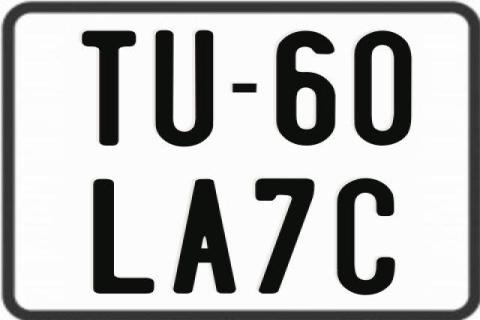0: (275, 29, 339, 150), (354, 29, 417, 147), (254, 176, 313, 296)
A: (170, 179, 235, 295)
C: (337, 176, 395, 294)
L: (91, 180, 158, 296)
T: (80, 31, 134, 146)
U: (155, 28, 214, 149)
